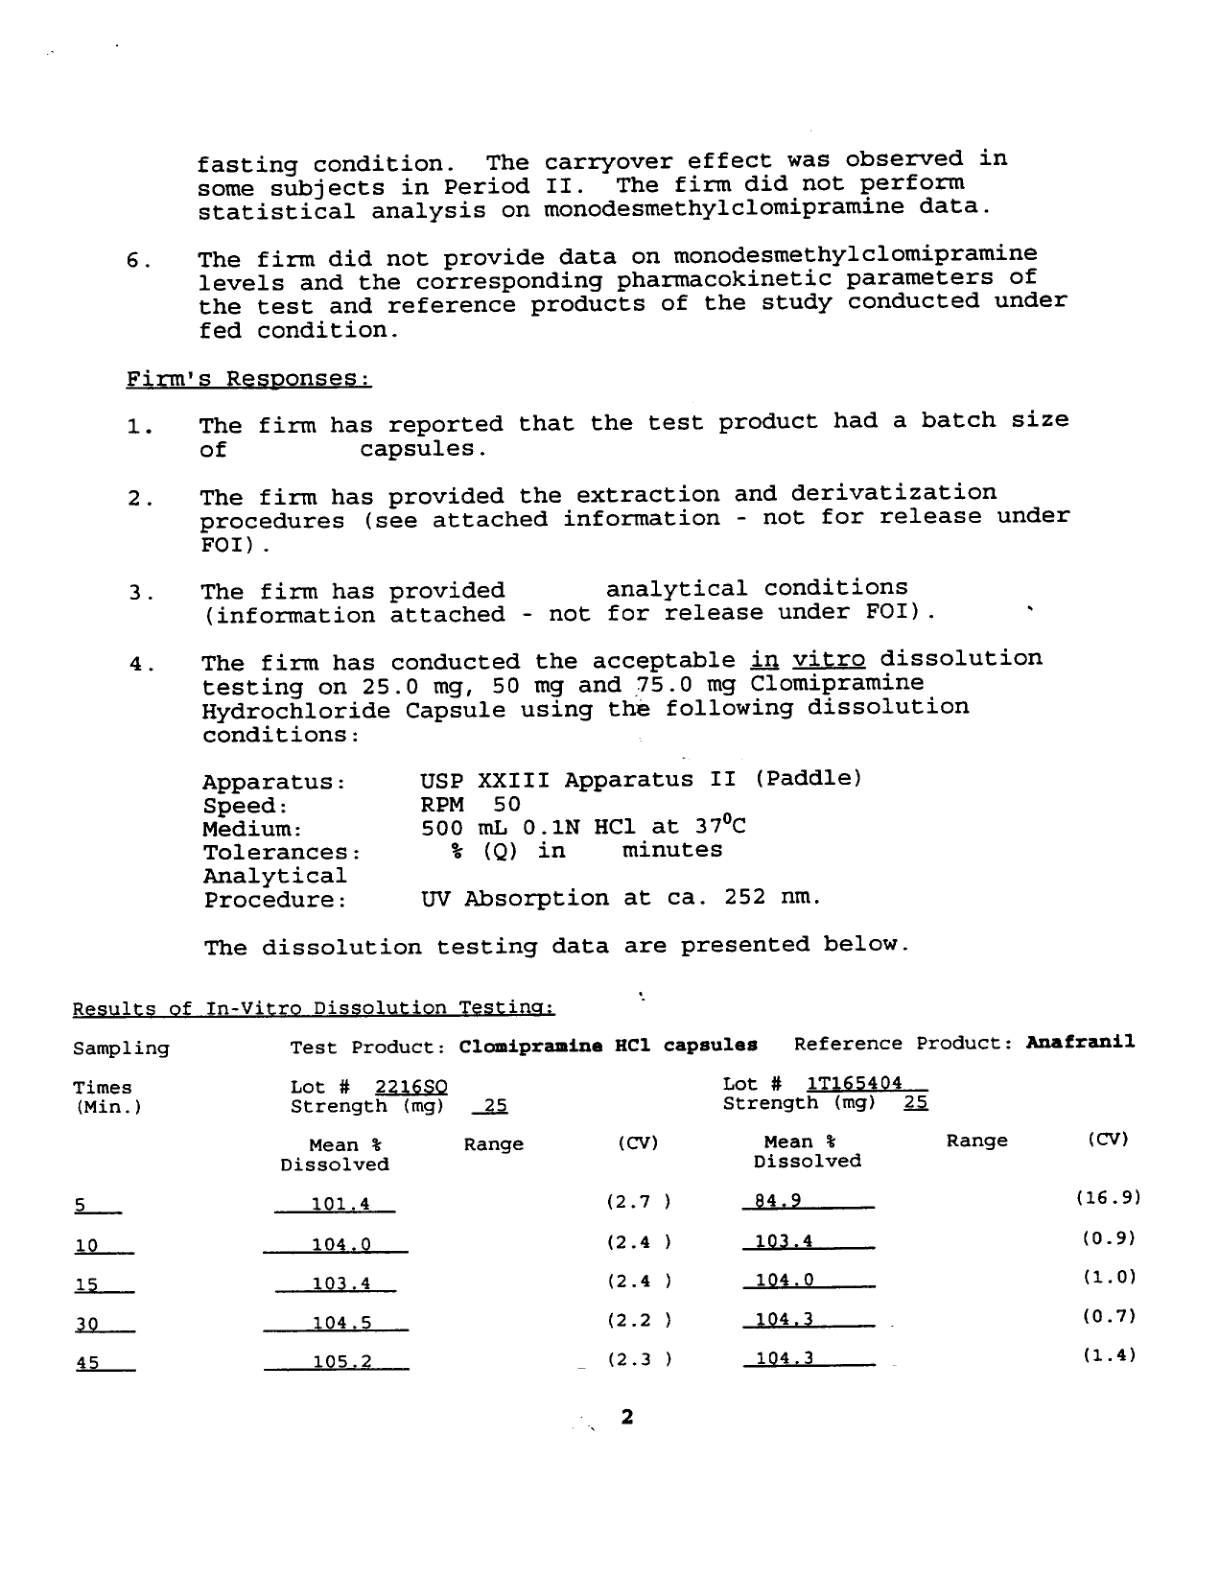nolines: (68, 1076, 1143, 1371)
